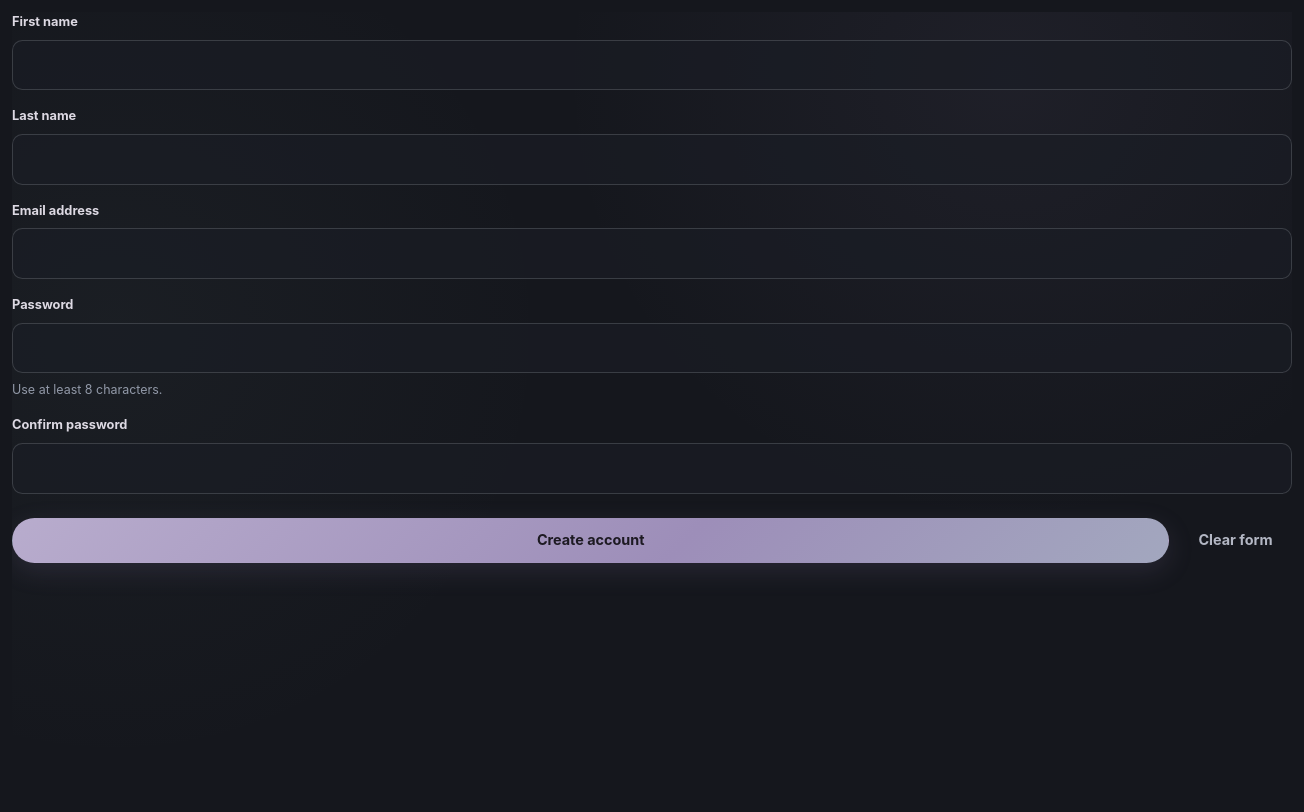
RegistrationForm › rejects an invalid email address
In the field labelled "First name": (652, 65) [12,40,1292,90], type "Amina"
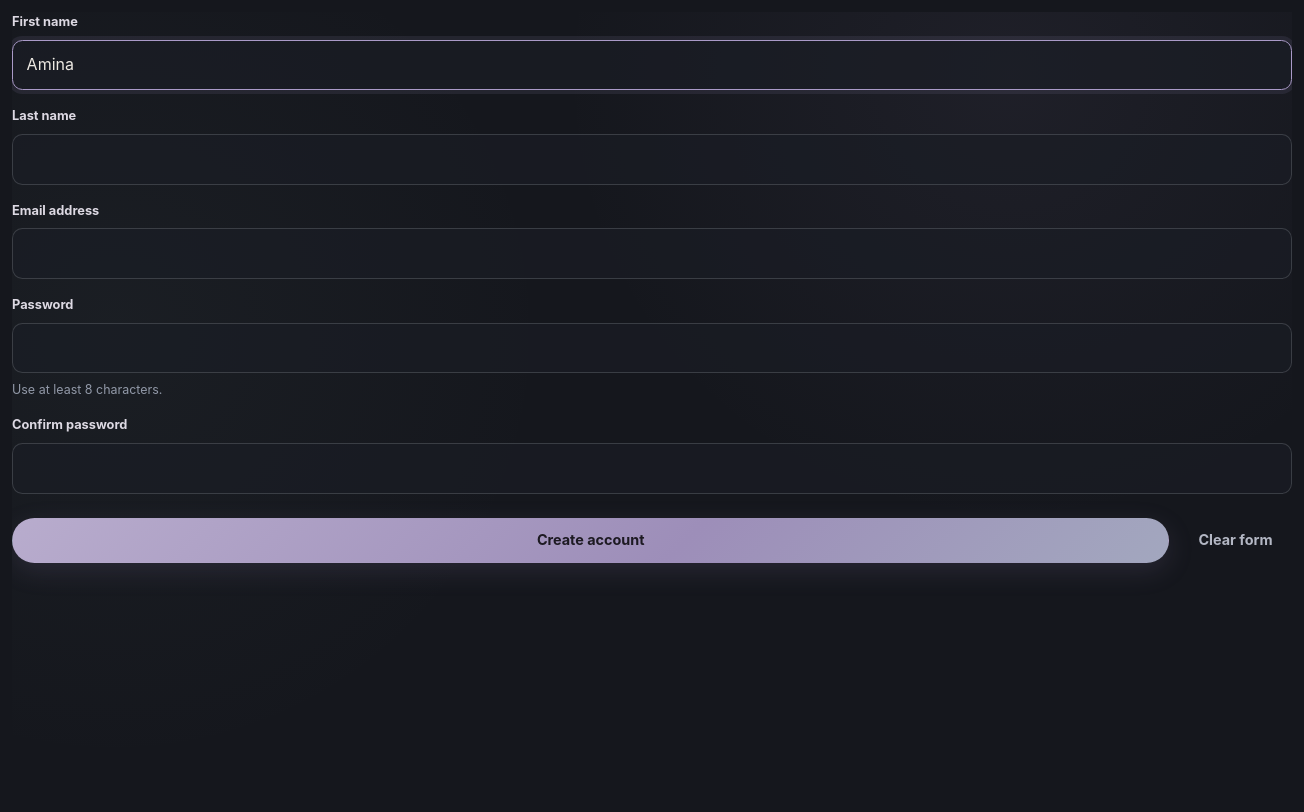
In the field labelled "Last name": (652, 159) [12,134,1292,184], type "Saleh"
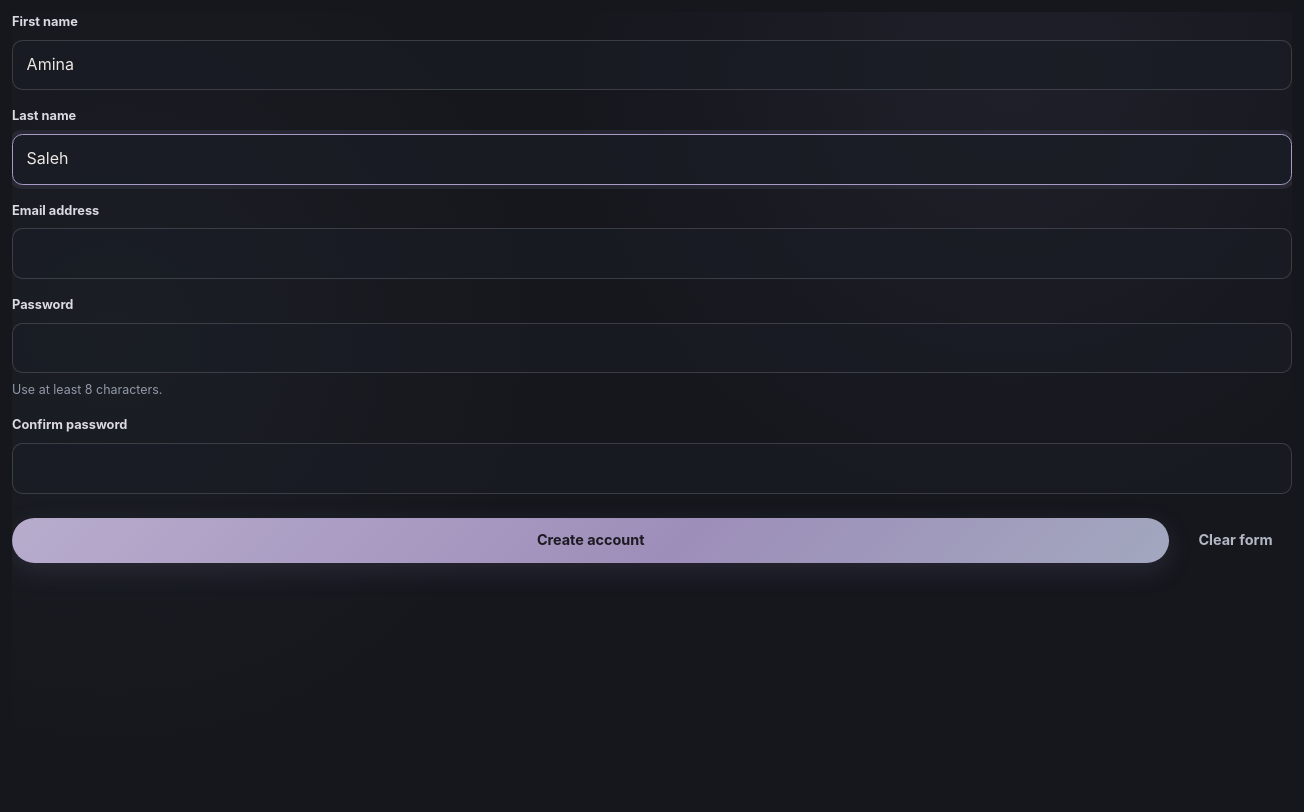
In the field labelled "Email address": (652, 254) [12,228,1292,279], type "viewer.example.com"
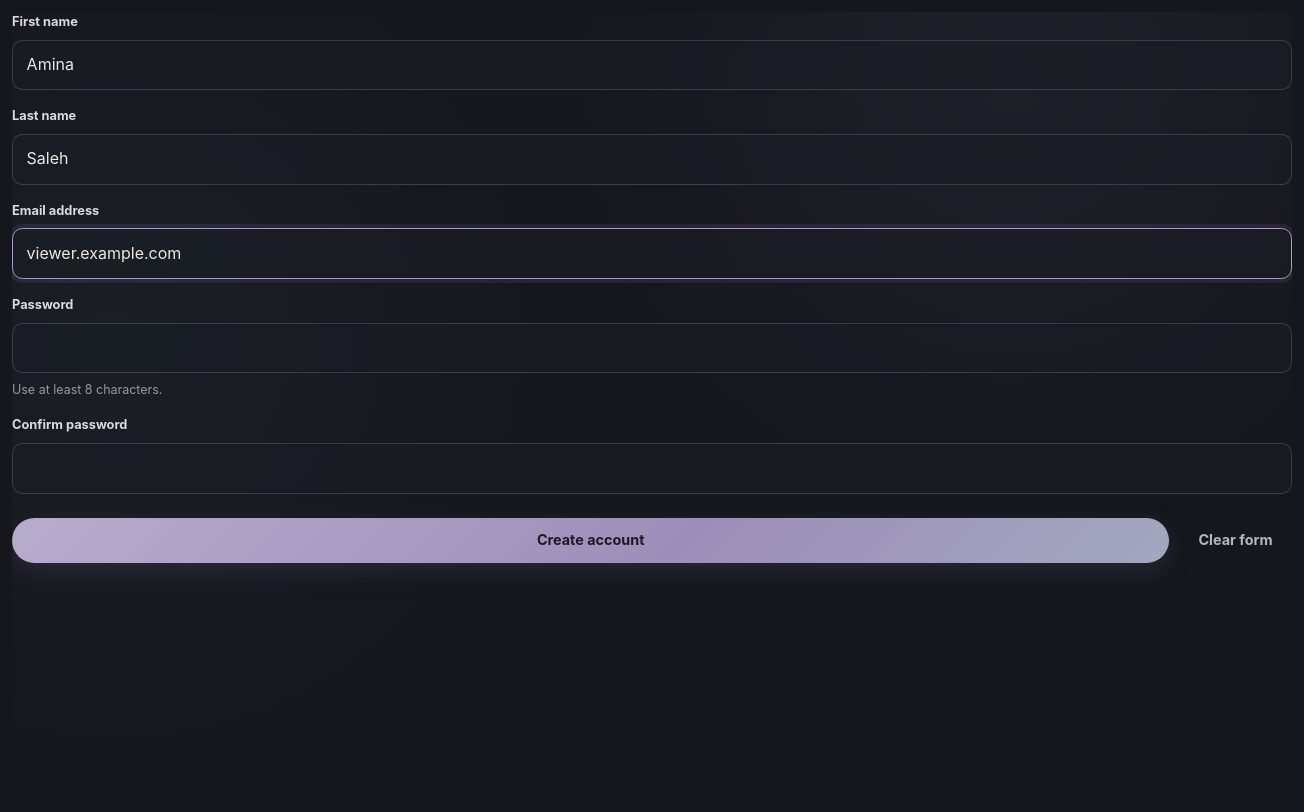
In the password field labelled "Password": (652, 348) [12,322,1292,373], type "password1"
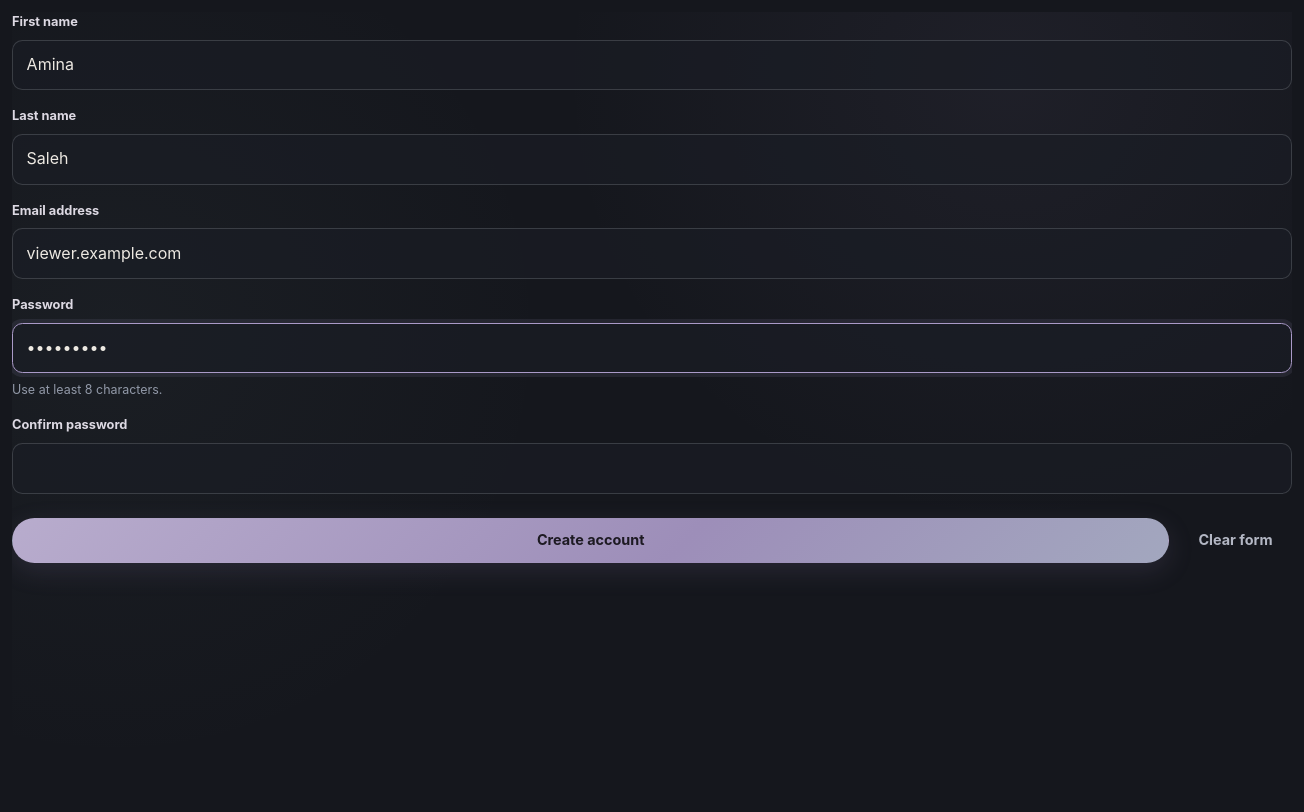
In the password field labelled "Confirm password": (652, 468) [12,443,1292,494], type "password1"
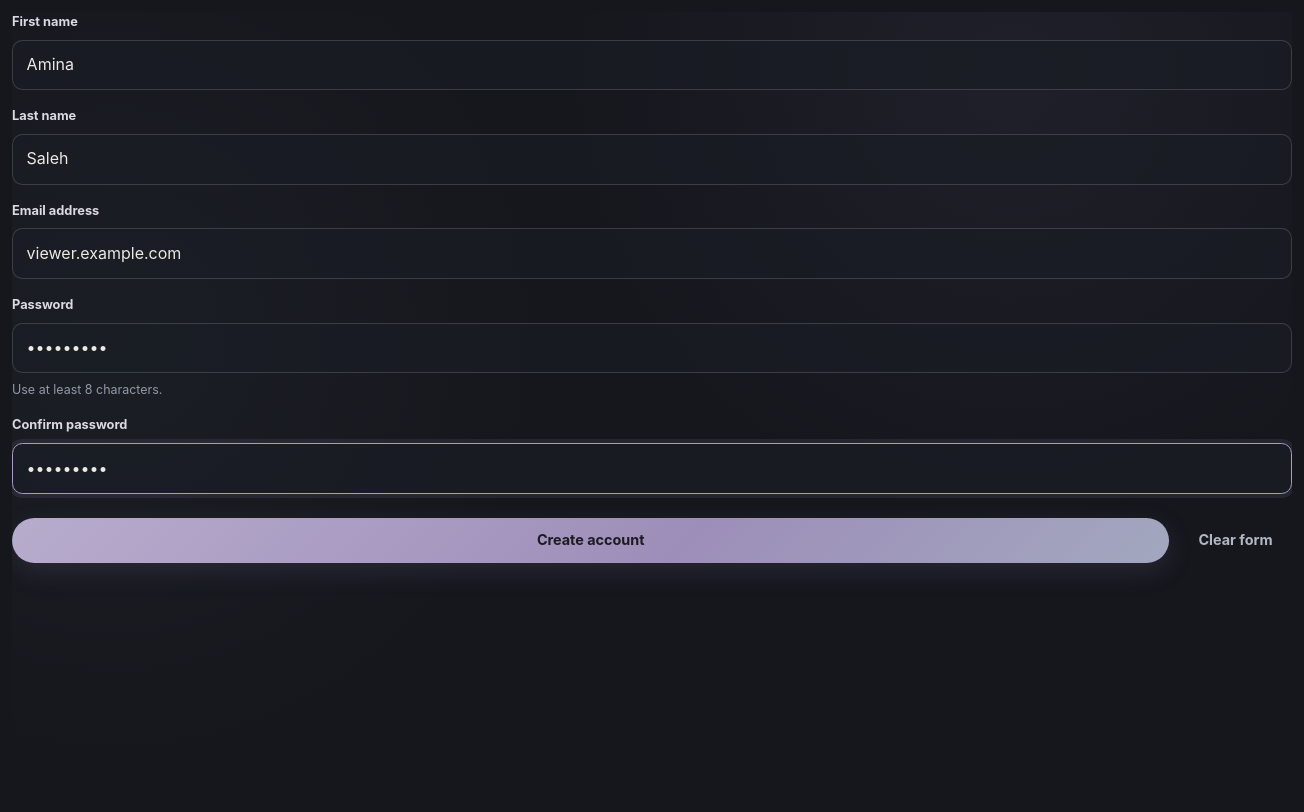
Click the button "Create account": (591, 541) [12,518,1169,563]
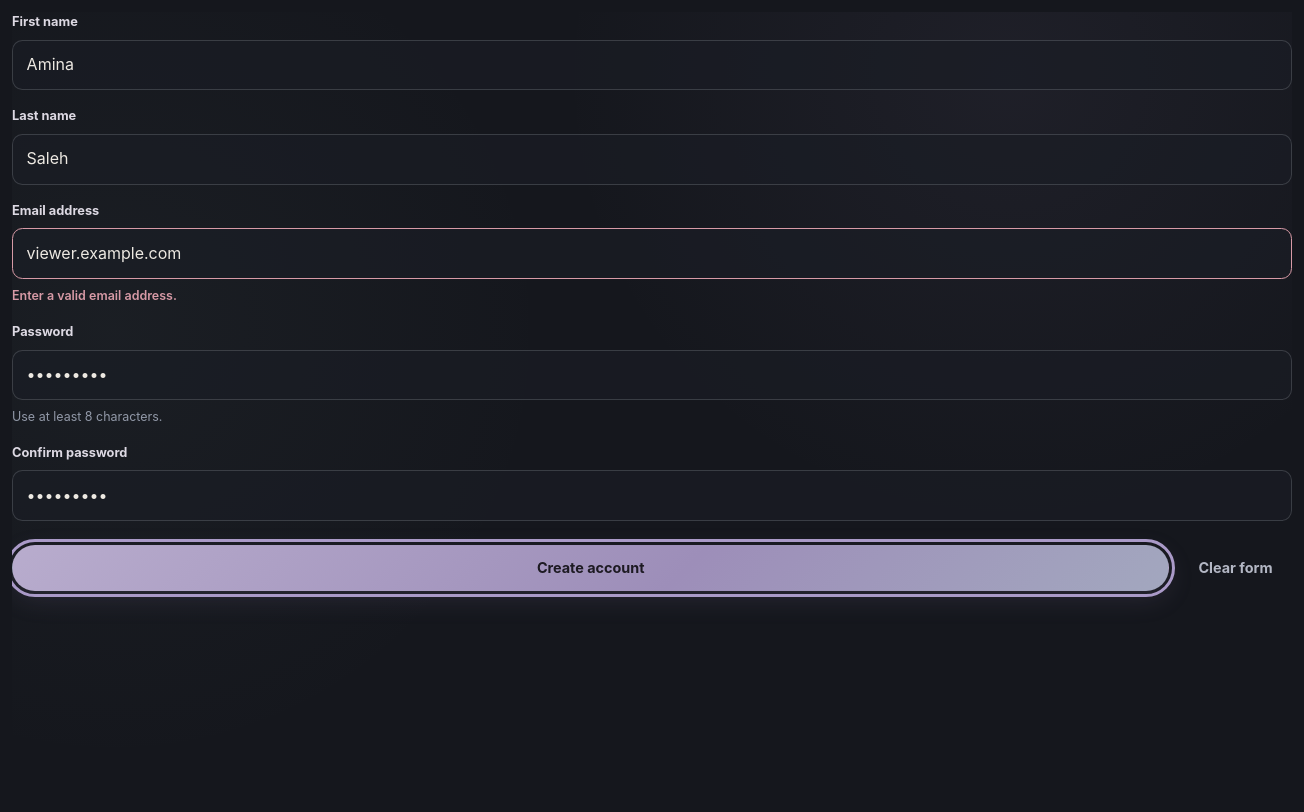
Now the text "Enter a valid email address." is shown, box [12,288,177,303]
